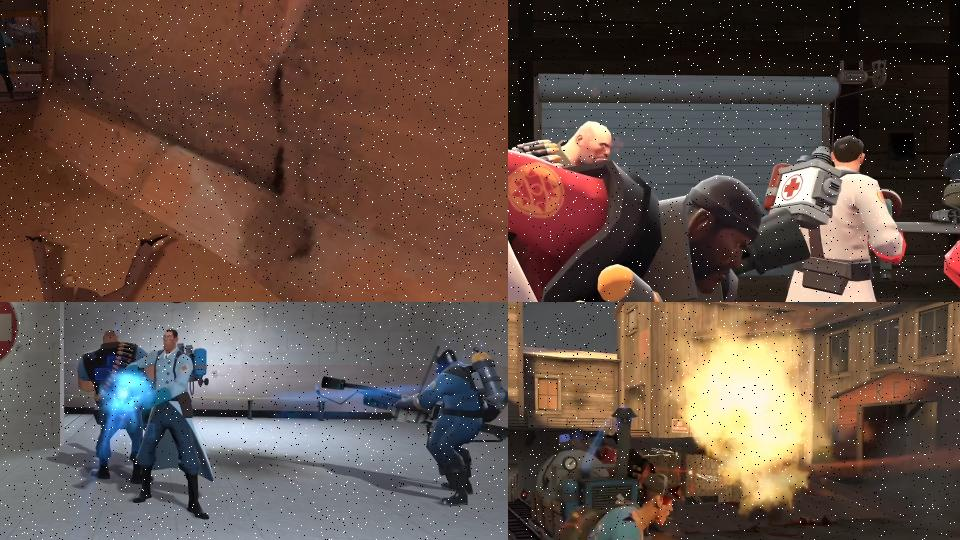Enemy: (508, 138, 763, 302), (315, 348, 508, 508), (750, 132, 918, 302), (121, 328, 208, 517), (508, 472, 731, 540), (899, 68, 960, 302), (13, 225, 174, 302), (79, 329, 154, 482), (510, 120, 614, 170), (0, 18, 19, 104)
